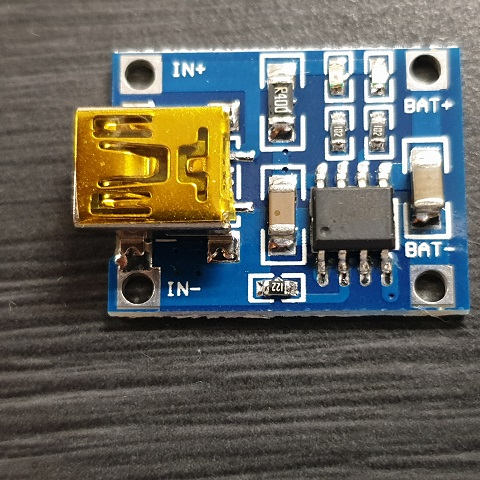batt+: (404, 50, 448, 90)
batt-: (416, 266, 454, 306)
charge: (328, 50, 362, 102)
done: (356, 52, 393, 98)
rprog: (246, 274, 304, 302)
usb: (68, 106, 237, 230)
